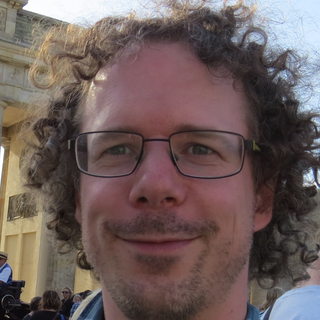eye: (180, 141, 225, 163), (97, 141, 139, 164)
